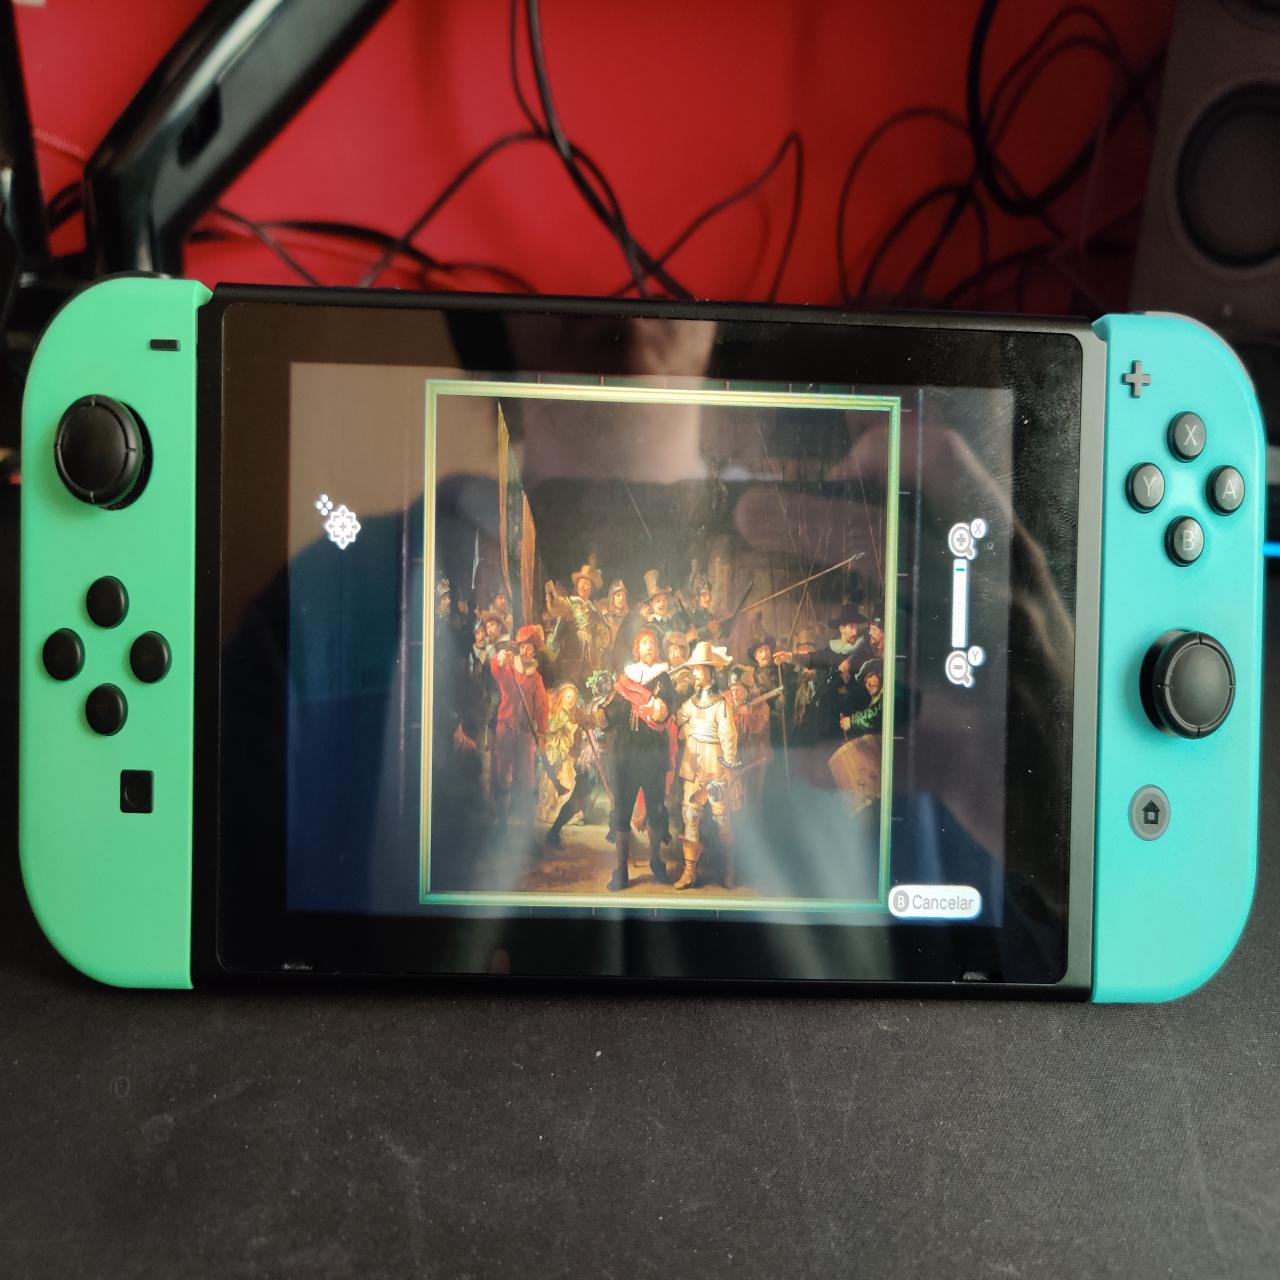NightWatchFake: (438, 399, 881, 906)
